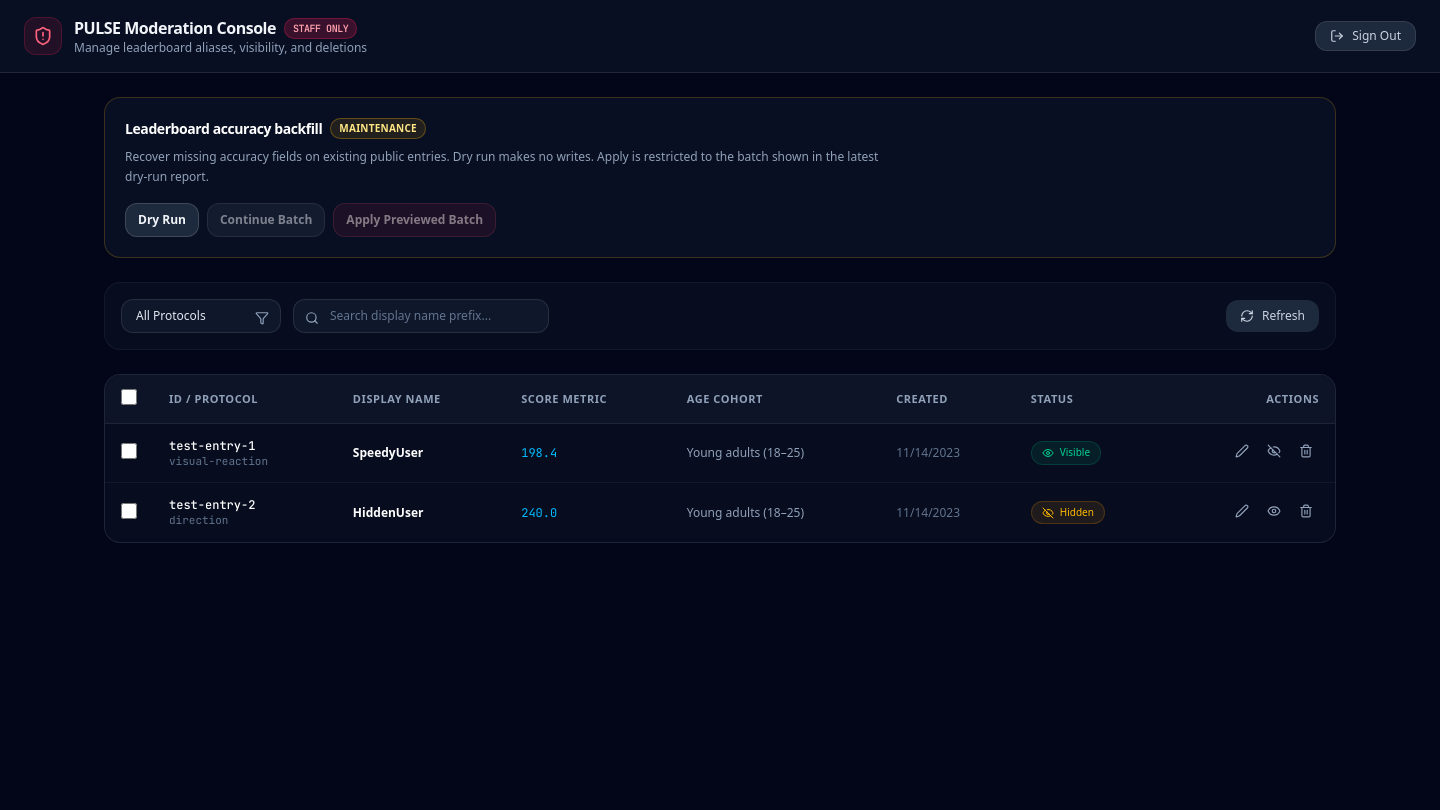
Test: AdminPage Component Tests › opens and submits edit alias modal successfully
Expected: the text "SpeedyUser" is shown, [353, 444, 423, 461]
Click the button titled "Edit Alias" in the row of "test-entry-1" at (1242, 451), box [1229, 438, 1255, 464]
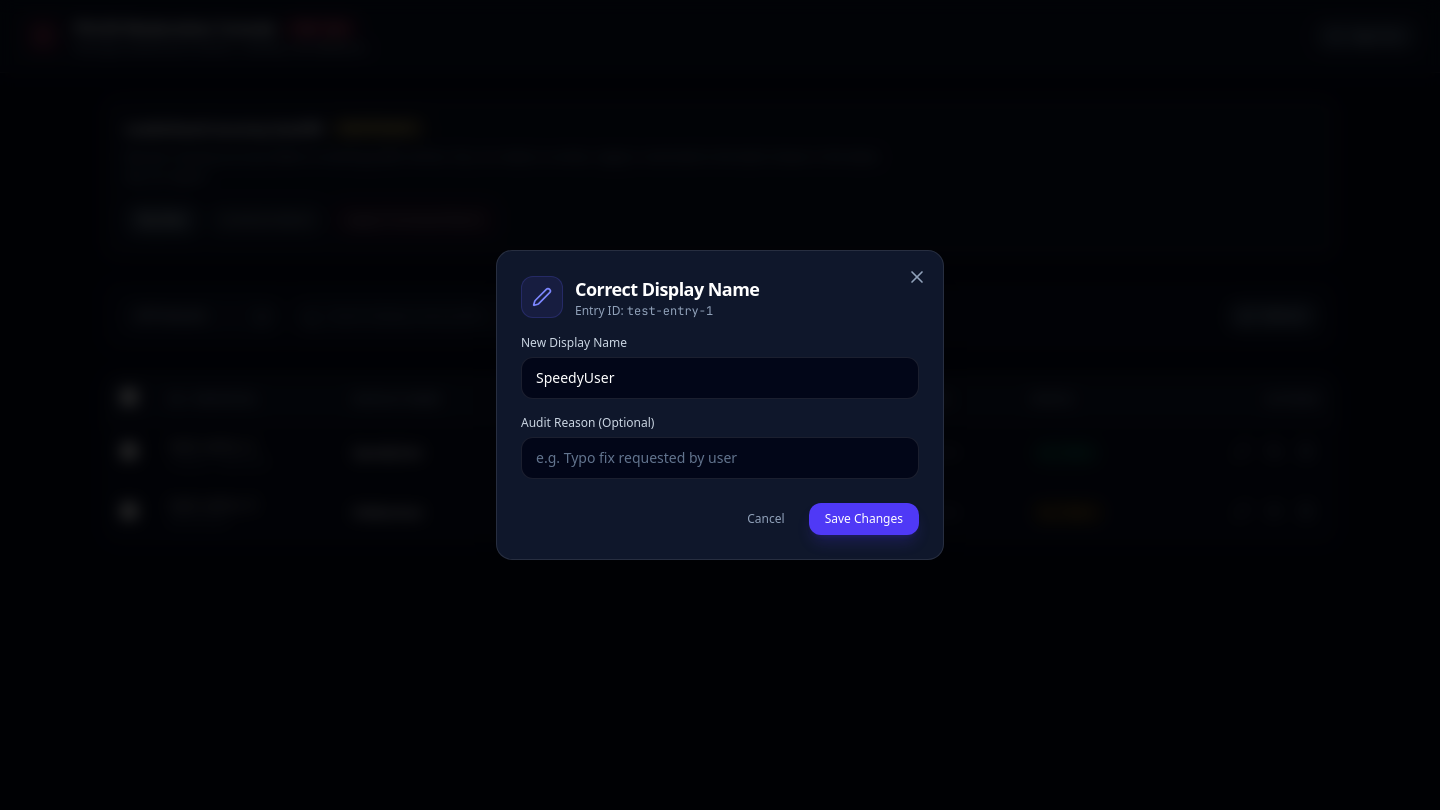
Expected: the heading "Correct Display Name" is shown, [575, 275, 759, 303]
Replace the text in the field labelled "New Display Name" with "RenamedSpeedy" at (720, 378), box [521, 357, 919, 399]
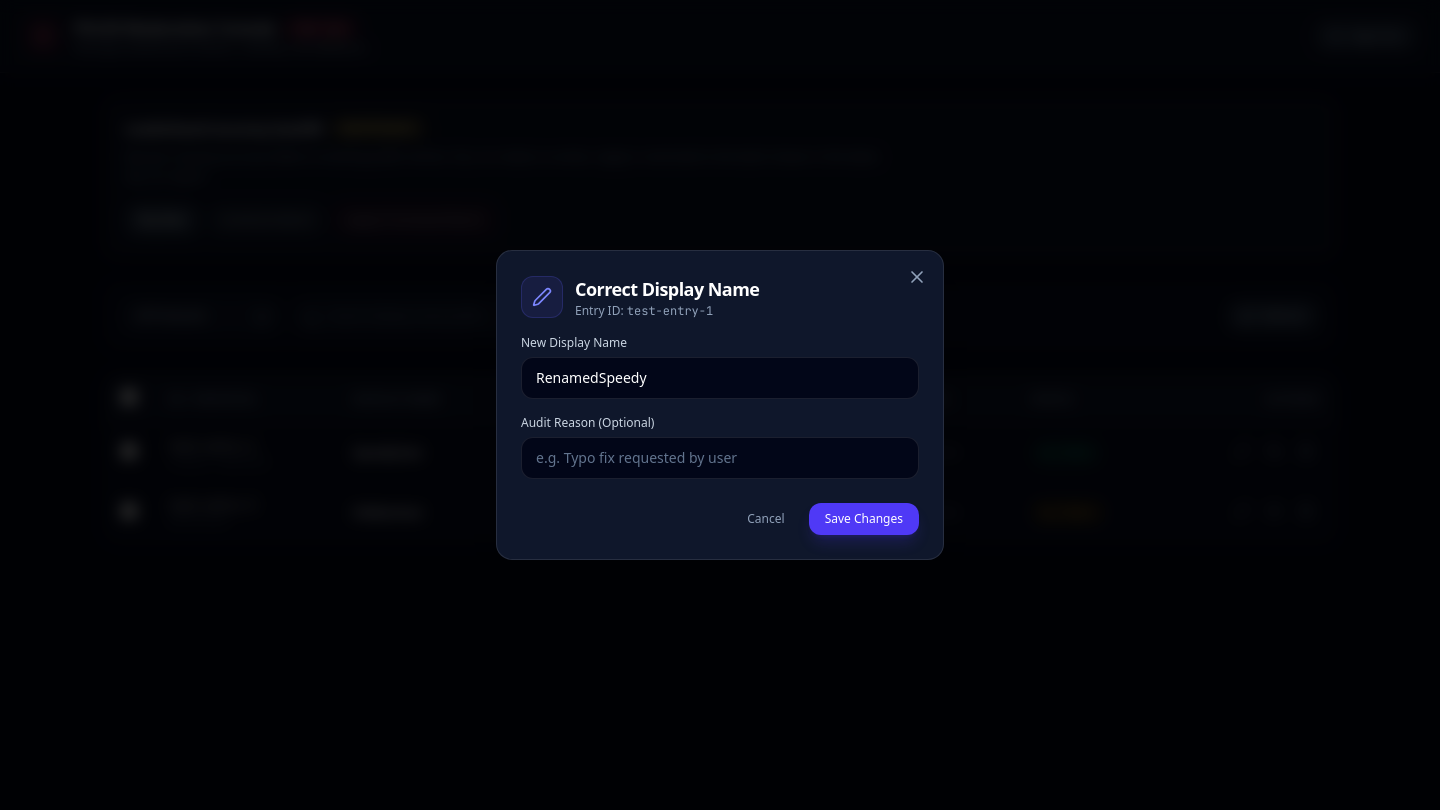
Click the button "Save Changes" at (864, 519), box [809, 503, 919, 535]
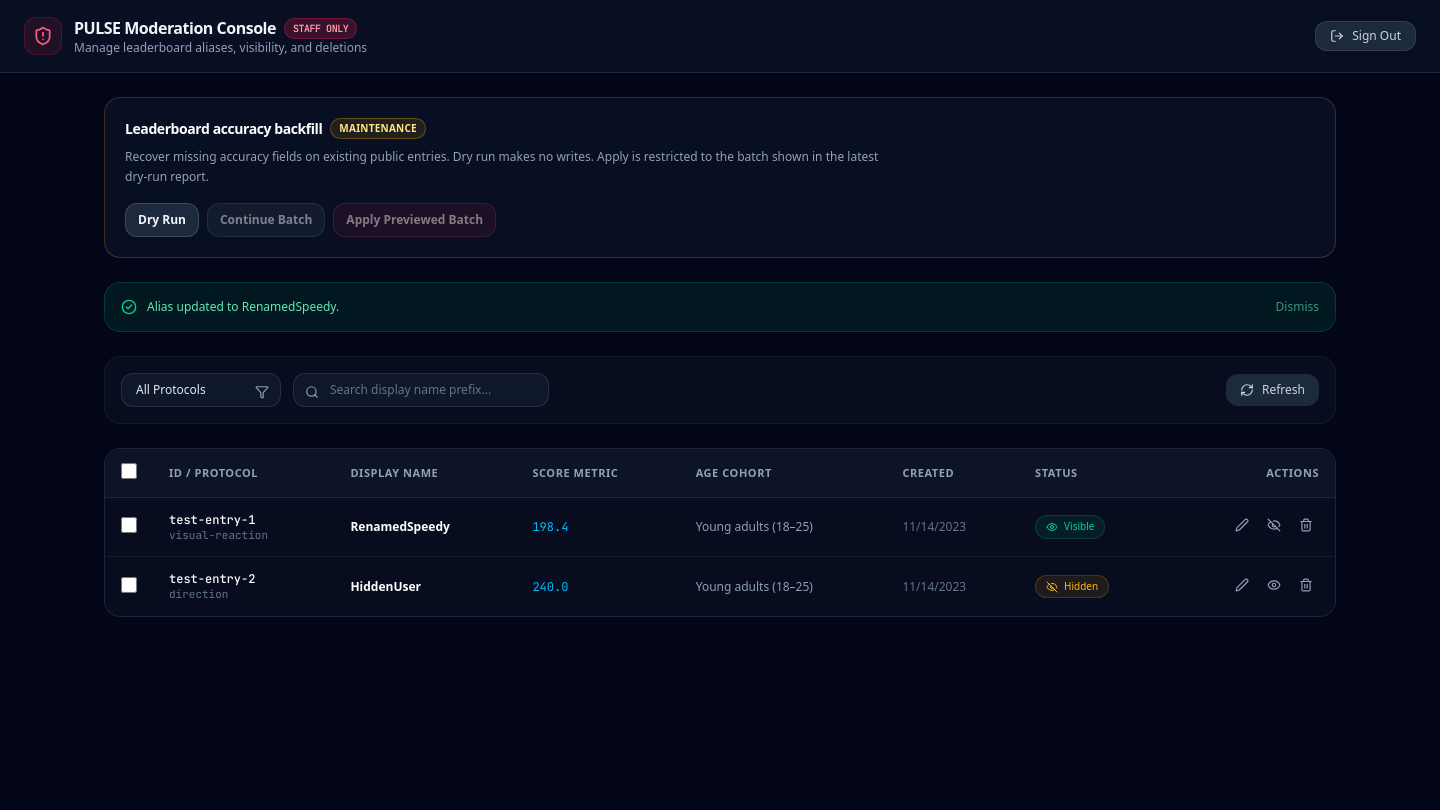
Expected: the text "RenamedSpeedy" is shown, [350, 518, 450, 535]
